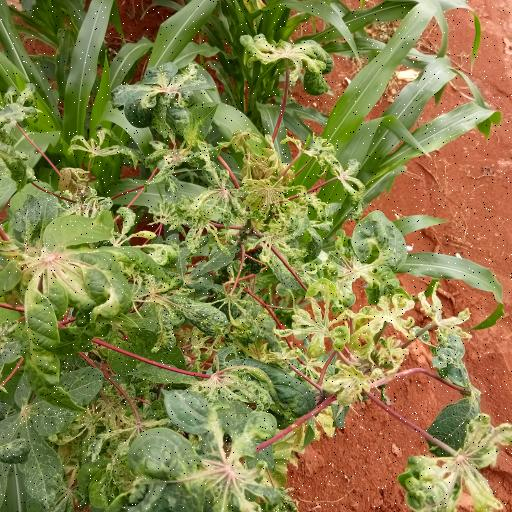Cassava_Mosaic: (0, 216, 117, 380), (132, 389, 286, 512), (399, 417, 512, 512), (114, 62, 204, 116)
